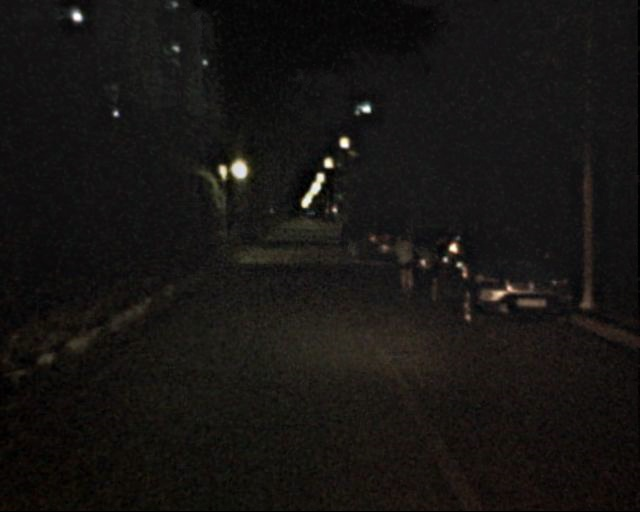person: (388, 228, 417, 298), (342, 217, 359, 259), (335, 224, 346, 250)
